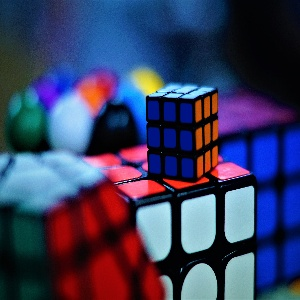cube: (78, 145, 255, 300), (145, 80, 219, 179)
